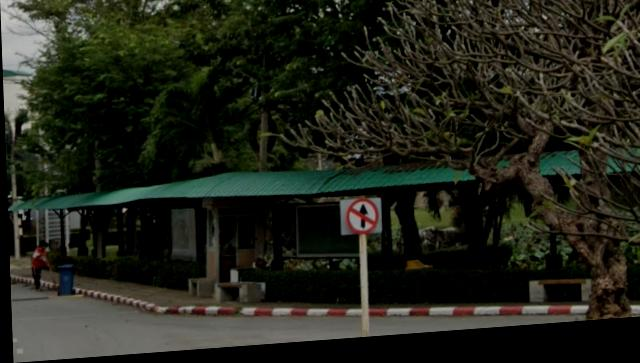not_go_straight: (346, 204, 378, 241)
